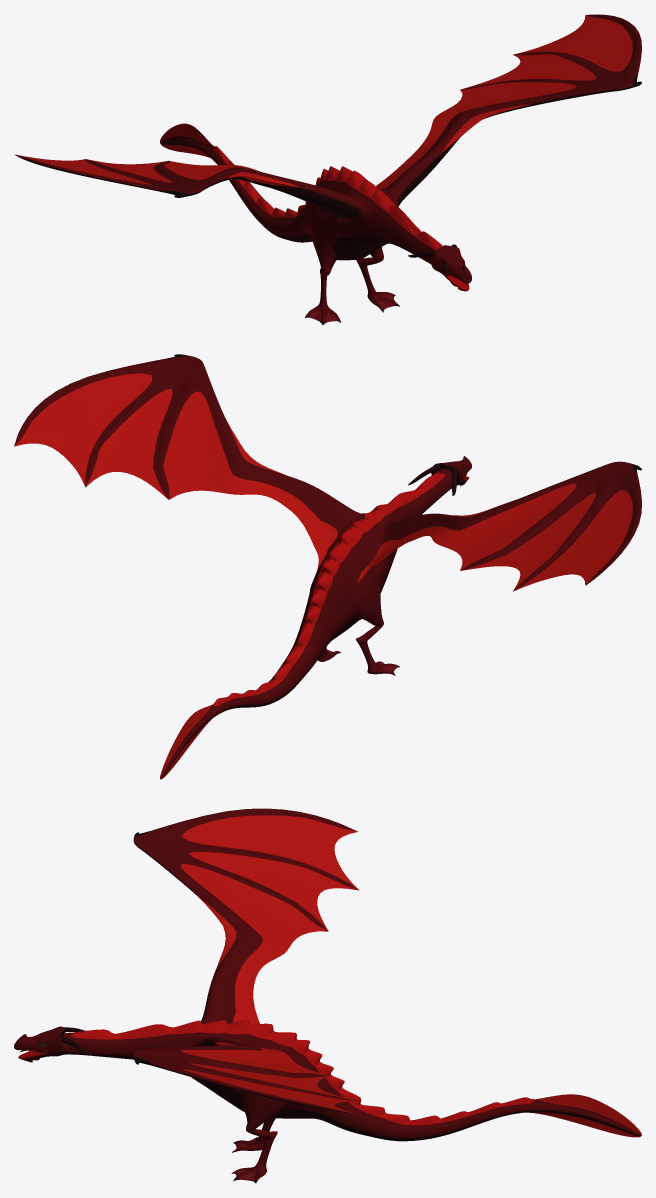
The model's file is 20170219_Dragon_small.obj.
3 renders of one model, top to bottom at view 1: azimuth 30°, elevation 25°; view 2: azimuth 150°, elevation 25°; view 3: azimuth 270°, elevation 25°, orthographic.
Parts seen in each view (by area): view 1: Cylinder; view 2: Cylinder; view 3: Cylinder.
Part boxes in pixels (x1,y1,x2,y2): Cylinder: (14, 14, 641, 324); Cylinder: (14, 354, 641, 779); Cylinder: (14, 808, 641, 1183).
Size of the model in its own units: 17.04 by 5.92 by 15.55.
